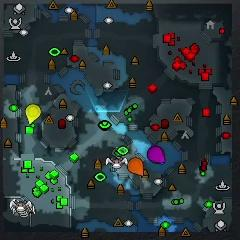p3: (147, 144, 167, 165)
p4: (25, 103, 42, 127)
p5: (127, 158, 145, 179)
